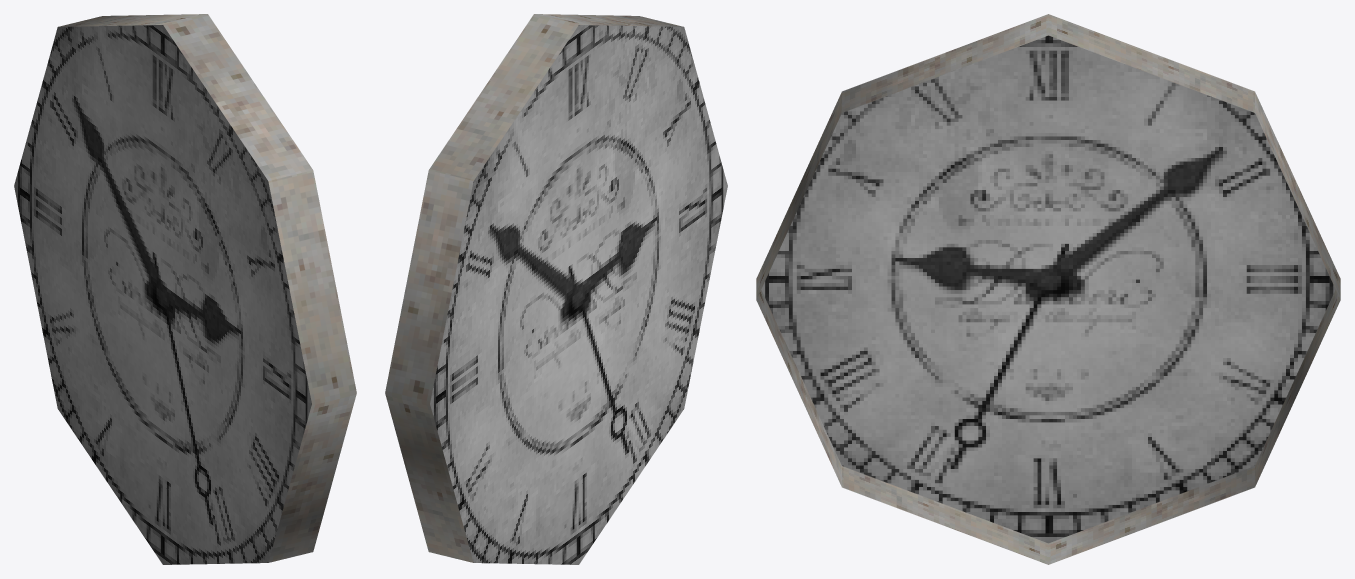
File: _Clock_1.FBX
3 views of the same model, side by side, from view 1: azimuth 30°, elevation 25°; view 2: azimuth 150°, elevation 25°; view 3: azimuth 270°, elevation 25° (orthographic).
Parts seen in each view (by area): view 1: _Clock_1; view 2: _Clock_1; view 3: _Clock_1.
Part boxes in pixels (x1=…): _Clock_1: x1=14, y1=14, x2=356, y2=564; _Clock_1: x1=385, y1=14, x2=727, y2=564; _Clock_1: x1=756, y1=14, x2=1340, y2=564.
Bounding box in the file's own units: 4.68 × 53.74 × 53.74.
2 materials, 2 textured.
